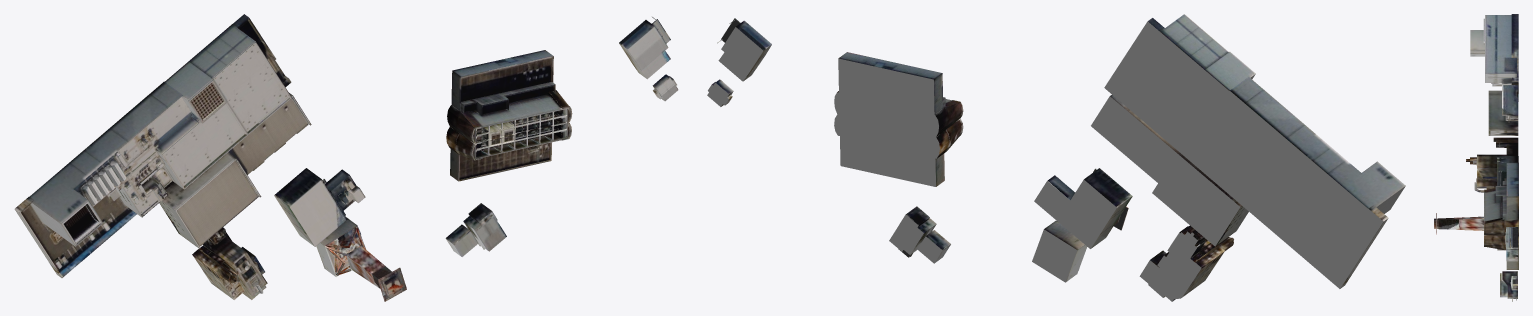
File: 53392633_bldg_6677.obj
3 views of the same model, side by side, from view 1: azimuth 30°, elevation 25°; view 2: azimuth 150°, elevation 25°; view 3: azimuth 270°, elevation 25° (orthographic). The views are drawn at different scales.
Bounding box in the file's own units: 313 × 131 × 48.91.
Materials: 10 (10 with a texture image).
